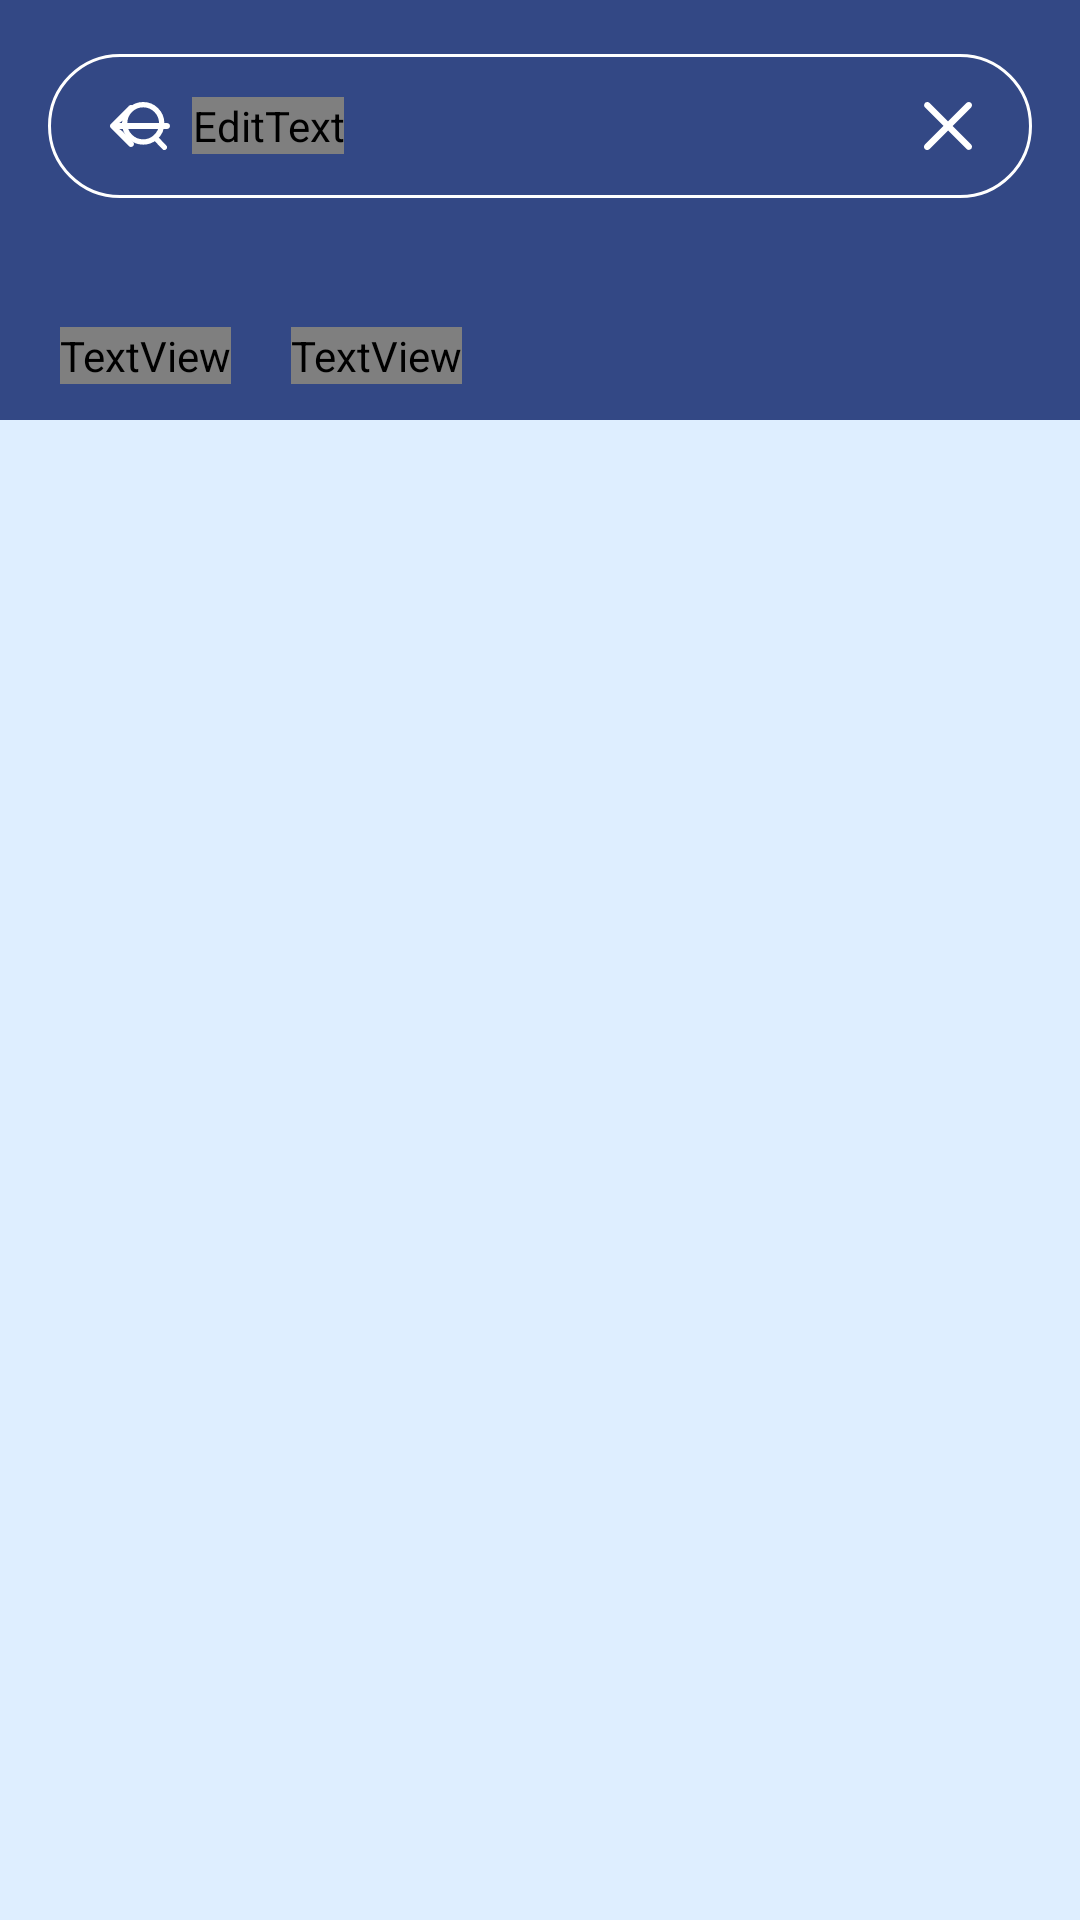

Screen size 1080x1920. Icon name, then its center in pixels as [x,y]:
clear: [948,126]
